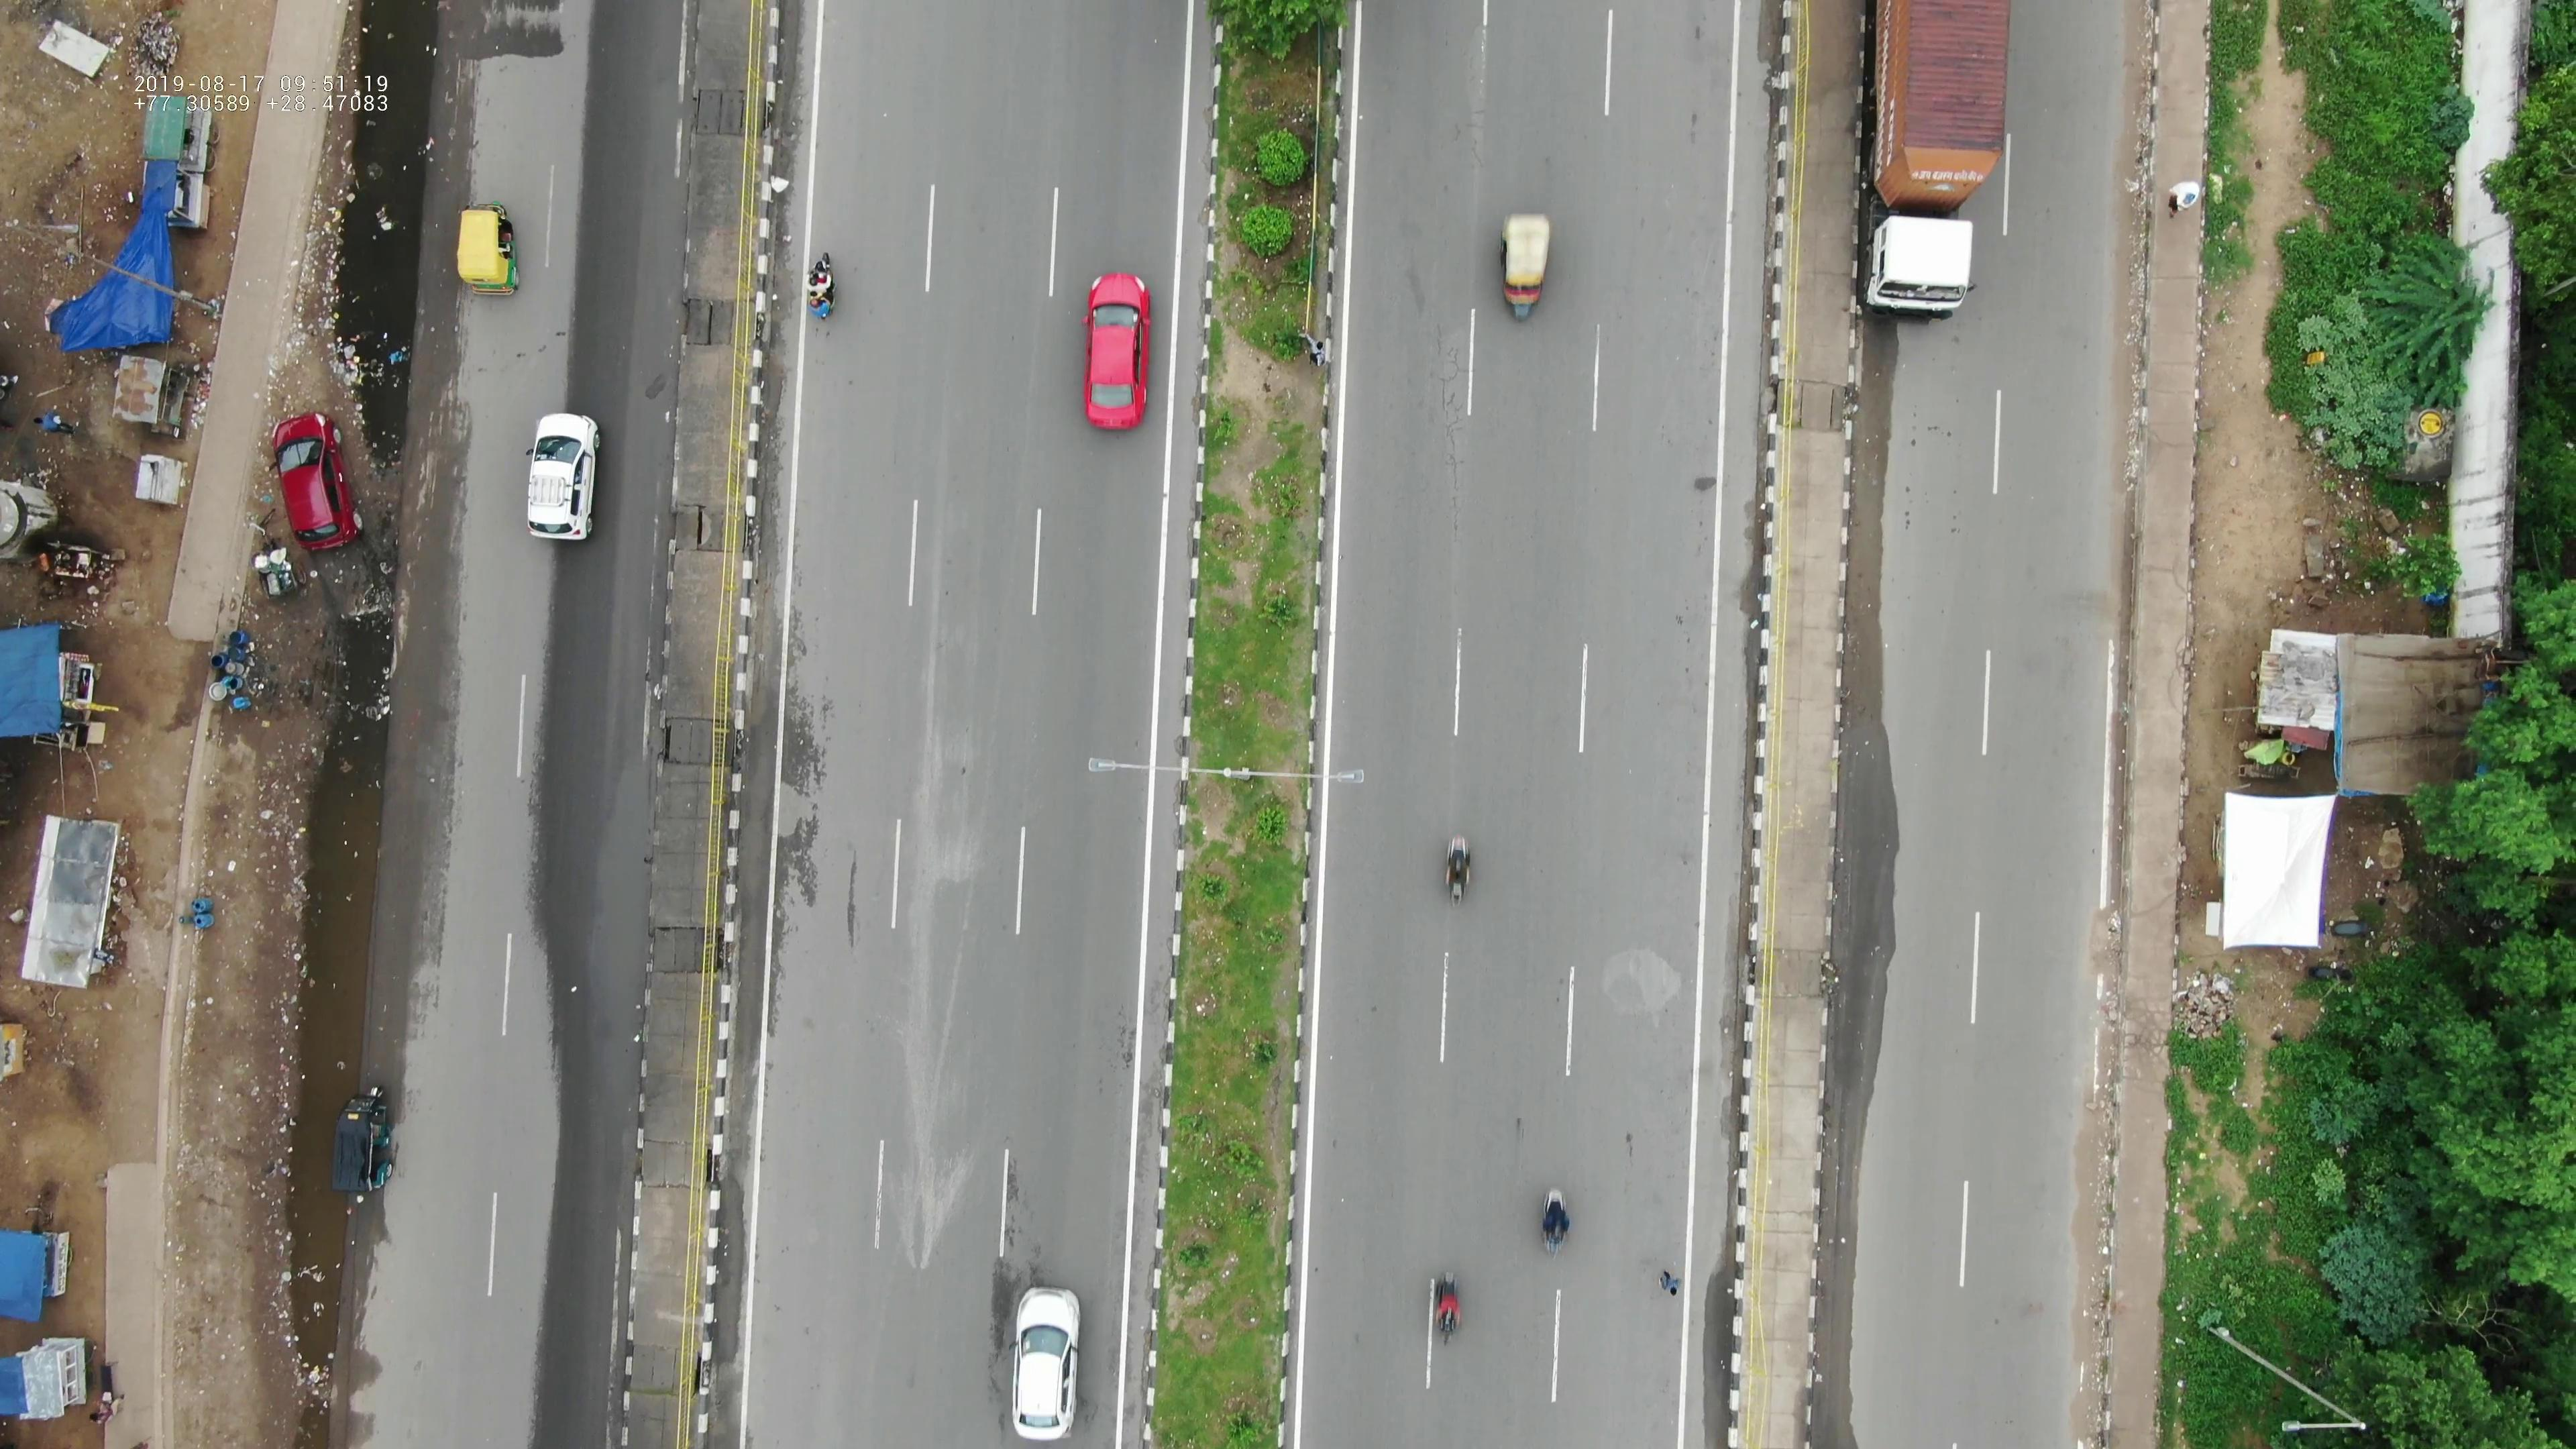Hair_cracks: (1407, 315, 1479, 527)
Waterlogging: (299, 623, 393, 924), (326, 196, 425, 419), (271, 1201, 352, 1444), (280, 932, 409, 1077), (347, 4, 441, 188)
